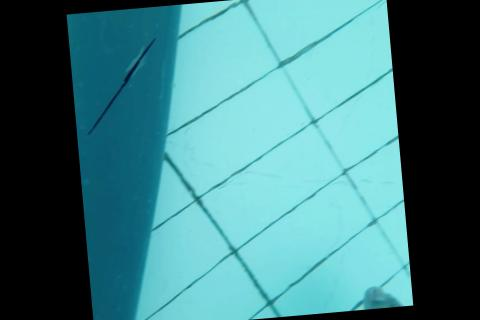keretakan: (76, 38, 169, 135)
